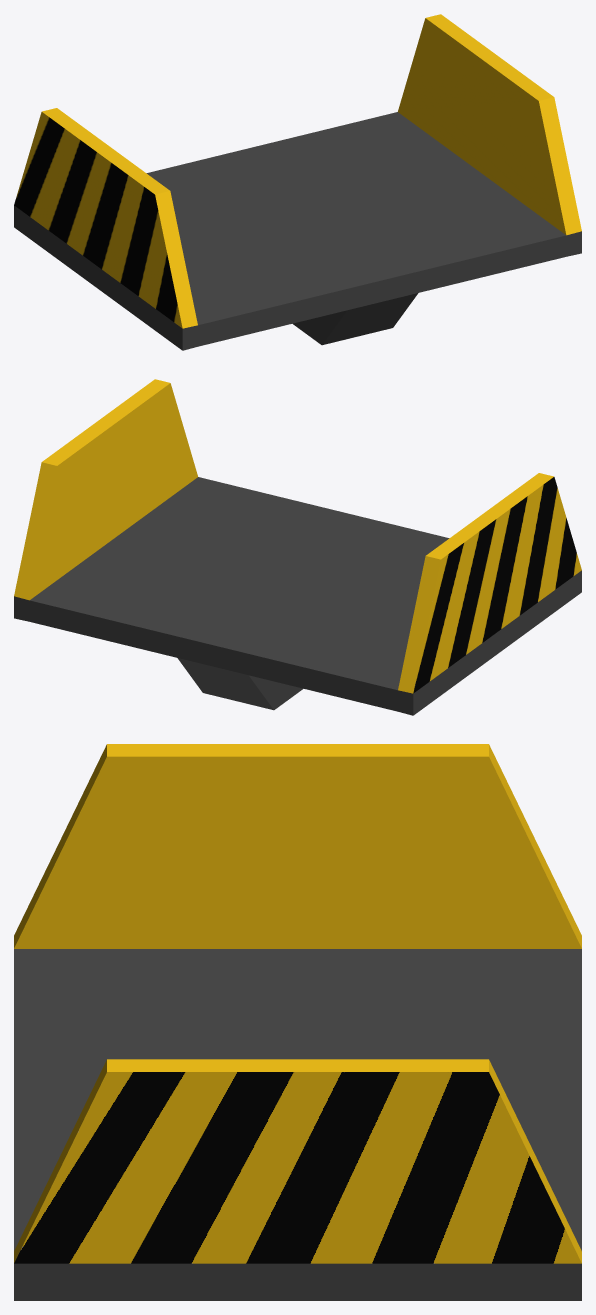
The model's file is crane_hook_top.fbx.
3 views of the same model, one above another, from view 1: azimuth 30°, elevation 25°; view 2: azimuth 150°, elevation 25°; view 3: azimuth 270°, elevation 25° (orthographic). The views are drawn at different scales.
Visible parts, largest first — view 1: hook_top1; view 2: hook_top1; view 3: hook_top1.
Boxes of the visible parts, bbox=[...] form: hook_top1: bbox=[14, 14, 581, 350]; hook_top1: bbox=[14, 379, 581, 715]; hook_top1: bbox=[14, 744, 581, 1300].
Size of the model in its own units: 1.02 by 0.4647 by 0.75.
Materials: 1 (1 with a texture image).
